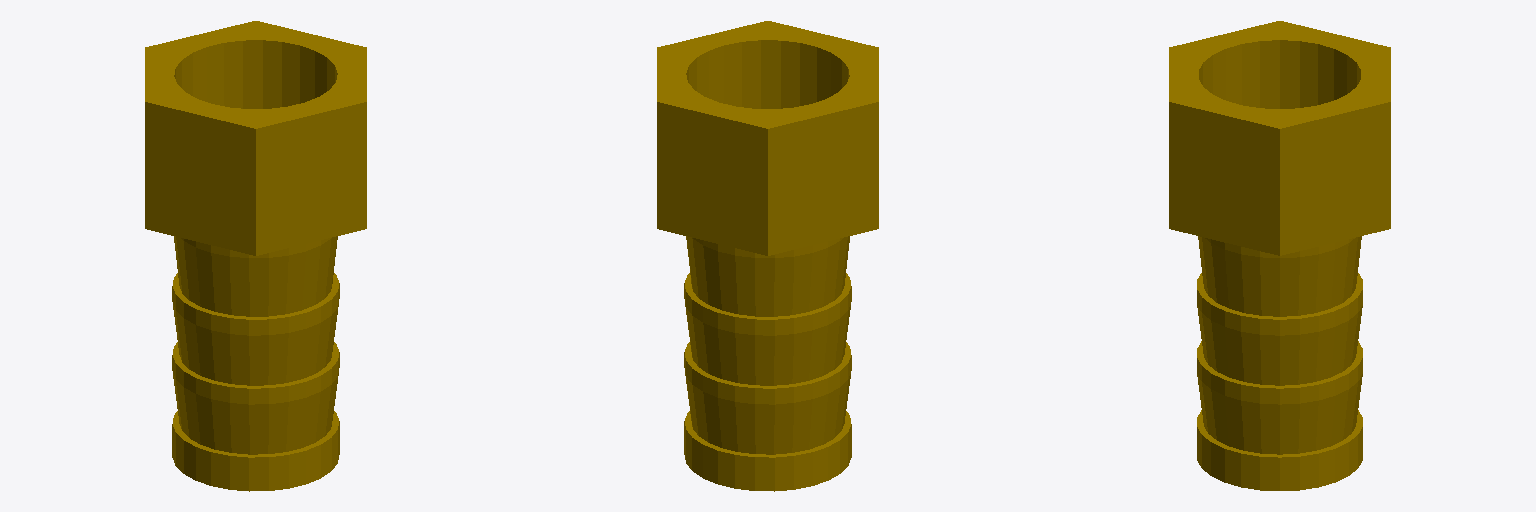
robot.urdf — obj_01:
<?xml version="1.0" encoding="utf-8"?>
<!-- This URDF was automatically created by SolidWorks to URDF Exporter! Originally created by [author] ([email redacted]) 
     Commit Version: 1.5.1-0-g916b5db  Build Version: 1.5.7152.31018
     For more information, please see http://wiki.ros.org/sw_urdf_exporter -->
<robot
  name="obj_01">
  <link
    name="obj_01">
    <inertial>
      <origin
        xyz="-8.0733E-19 -9.4306E-05 -1.46992561365982E-18"
        rpy="0 0 0" />
      <mass
        value="0.024119" />
      <inertia
        ixx="3.0961E-06"
        ixy="-7.1213E-22"
        ixz="1.0986E-22"
        iyy="1.5513E-06"
        iyz="4.3536859476924E-22"
        izz="3.0961E-06" />
    </inertial>
    <visual>
      <origin
        xyz="0 0 0"
        rpy="0 0 0" />
      <geometry>
        <mesh
          filename="package://obj_01/meshes/obj_01.STL" />
      </geometry>
      <material
        name="">
        <color
          rgba="0.64706 0.51765 0 1" />
        <texture
          filename="package://obj_01/textures/" />
      </material>
    </visual>
    <collision>
      <origin
        xyz="0 0 0"
        rpy="0 0 0" />
      <geometry>
        <mesh
          filename="package://obj_01/meshes/obj_01.STL" />
      </geometry>
    </collision>
  </link>
</robot>

--- Render facts (derived) ---
The picture shows the robot from 3 angles, left to right: view 1: azimuth 30°, elevation 25°; view 2: azimuth 150°, elevation 25°; view 3: azimuth 270°, elevation 25°; orthographic projection.
Robot: obj_01 — 1 links, 0 joints (none); root link obj_01; default pose: every joint at zero.
Links seen in each view (by area): view 1: obj_01; view 2: obj_01; view 3: obj_01.
Boxes of the visible links, <box> form: obj_01: <box>145,21,366,491</box>; obj_01: <box>657,21,878,491</box>; obj_01: <box>1169,21,1390,490</box>.
Size in the robot's own frame: 0.0219 by 0.019 by 0.036 metres.
1 mesh visuals loaded from 1 distinct referenced files (1 binary STL).